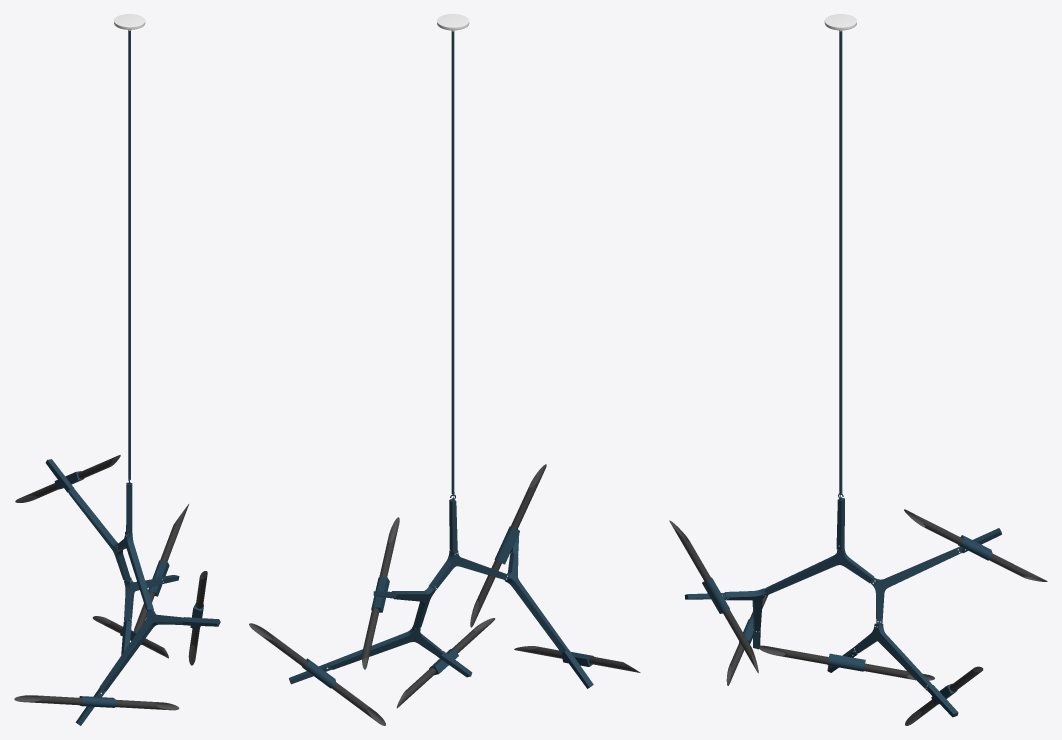
3 renders of one model, left to right at view 1: azimuth 30°, elevation 25°; view 2: azimuth 150°, elevation 25°; view 3: azimuth 270°, elevation 25°, orthographic. The views are drawn at different scales.
Visible parts, largest first — view 1: G_3DGeom_51, G_3DGeom_9, G_3DGeom_50, G_3DGeom_20, G_3DGeom_28, G_3DGeom_15, G_3DGeom_47, G_3DGeom_55, G_3DGeom_41, G_3DGeom_42, G_3DGeom_112, G_3DGeom_1 (+1 smaller); view 2: G_3DGeom_51, G_3DGeom_41, G_3DGeom_9, G_3DGeom_47, G_3DGeom_55, G_3DGeom_15, G_3DGeom_28, G_3DGeom_42, G_3DGeom_50, G_3DGeom_20; view 3: G_3DGeom_51, G_3DGeom_28, G_3DGeom_20, G_3DGeom_41, G_3DGeom_42, G_3DGeom_55, G_3DGeom_15, G_3DGeom_9.
Part boxes in pixels (box(x1,y1,x2,y2)): G_3DGeom_51: box(128, 31, 130, 478); G_3DGeom_9: box(99, 609, 182, 691); G_3DGeom_50: box(14, 695, 179, 710); G_3DGeom_20: box(68, 487, 130, 581); G_3DGeom_28: box(116, 531, 153, 611); G_3DGeom_15: box(15, 455, 120, 502); G_3DGeom_47: box(134, 504, 188, 632); G_3DGeom_55: box(188, 571, 207, 665); G_3DGeom_41: box(124, 578, 163, 621); G_3DGeom_42: box(92, 616, 168, 658); G_3DGeom_112: box(114, 14, 145, 30); G_3DGeom_1: box(79, 696, 115, 707); G_3DGeom_51: box(451, 31, 454, 493); G_3DGeom_41: box(329, 626, 442, 669); G_3DGeom_9: box(504, 553, 567, 653); G_3DGeom_47: box(249, 623, 385, 725); G_3DGeom_55: box(470, 464, 546, 627); G_3DGeom_15: box(362, 517, 399, 669); G_3DGeom_28: box(429, 550, 509, 591); G_3DGeom_42: box(396, 618, 495, 708); G_3DGeom_50: box(514, 646, 640, 672); G_3DGeom_20: box(391, 586, 434, 629); G_3DGeom_51: box(839, 31, 842, 492); G_3DGeom_28: box(764, 548, 873, 595); G_3DGeom_20: box(870, 546, 962, 624); G_3DGeom_41: box(852, 623, 932, 690); G_3DGeom_42: box(758, 645, 934, 680); G_3DGeom_55: box(669, 520, 758, 673); G_3DGeom_15: box(904, 509, 1047, 581); G_3DGeom_9: box(724, 588, 767, 632).
Size of the model in its own units: 1114 by 2563 by 1276.
